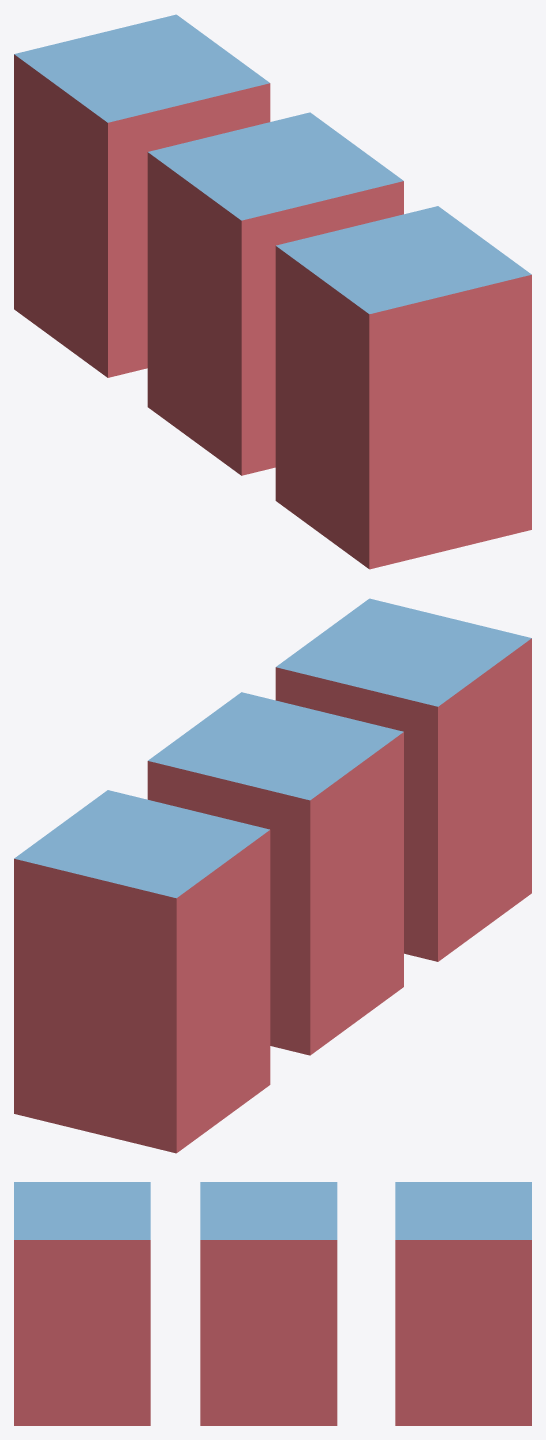
The model's file is instances.glb.
The picture shows the model from 3 angles, top to bottom: view 1: azimuth 30°, elevation 25°; view 2: azimuth 150°, elevation 25°; view 3: azimuth 270°, elevation 25°; orthographic projection. The views are drawn at different scales.
Parts seen in each view (by area): view 1: HewModel; view 2: HewModel; view 3: HewModel.
Part boxes in pixels (<box>): HewModel: <box>14,14,531,569</box>; HewModel: <box>14,598,531,1153</box>; HewModel: <box>14,1182,531,1425</box>.
Bounding box in the file's own units: 1 × 1.5 × 3.79.
